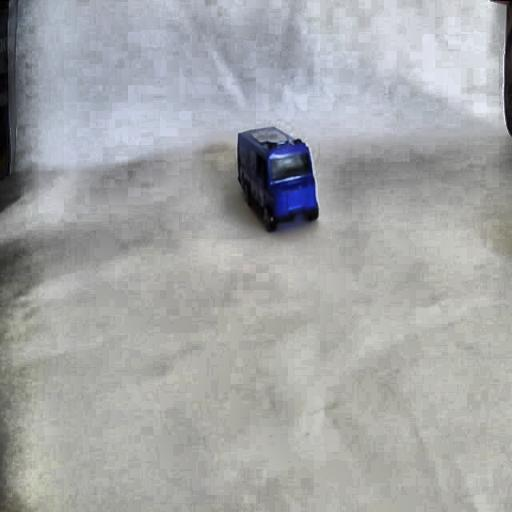police car: (236, 126, 320, 228)
